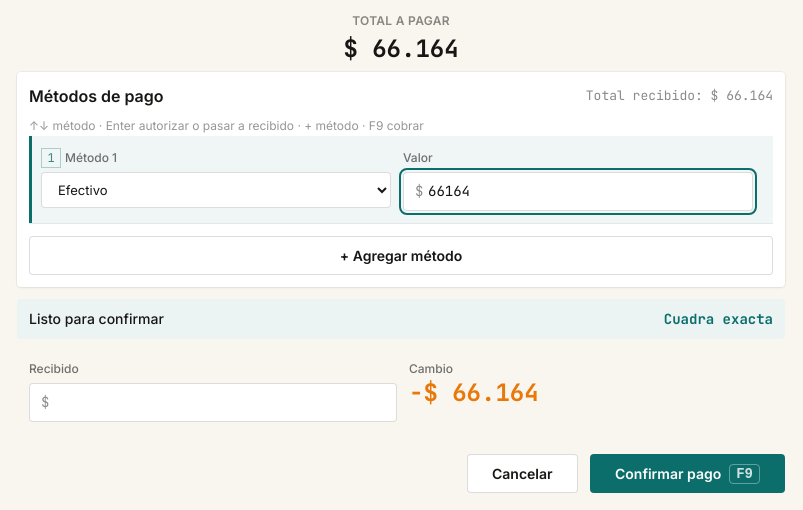
Test case: PaymentProcessing › disables the confirm button while completing
Click the button "Confirmar pago F9".
click(688, 473)  # box x1=590 y1=454 x2=785 y2=493
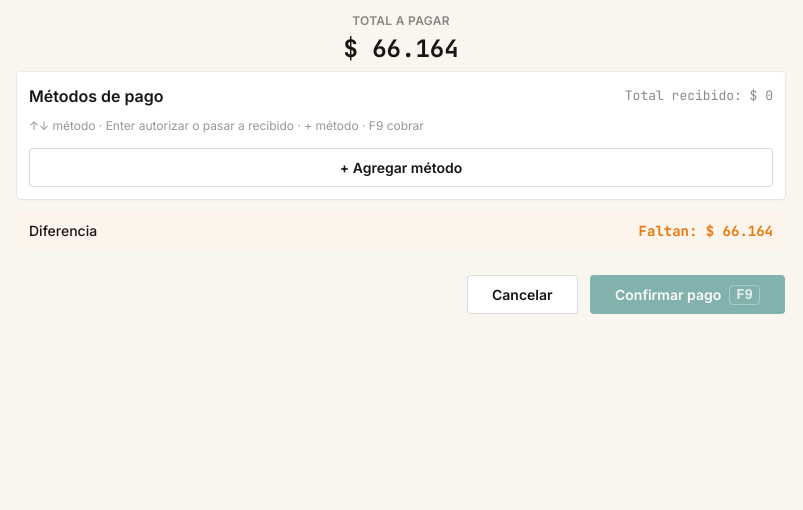
Result: the button named "Procesando pago" is disabled at x1=590 y1=275 x2=785 y2=314
